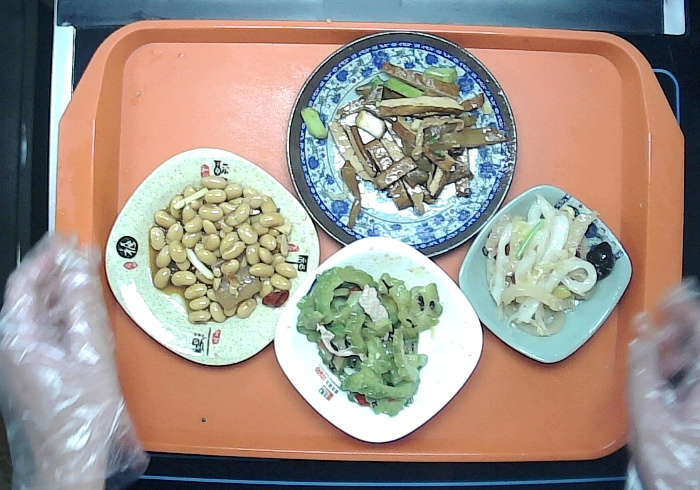NLDX-Bai_Se_Xiao_Fang_Die: (273, 236, 483, 443)
NLDX-Fu_Zi_Fang_Die: (105, 146, 321, 366)
NLDX-Qing_Hua_Xiao_Fang_Die: (460, 186, 633, 365)
NLDX-Qing_Hua_Yuan_Die: (286, 30, 519, 258)
